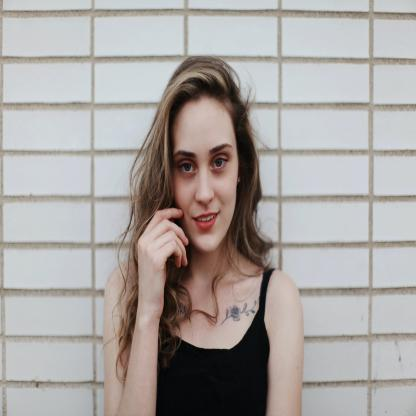Eye: (209, 154, 230, 173), (177, 158, 198, 177)
Mouth: (191, 208, 222, 230)
Nose: (196, 166, 214, 206)
